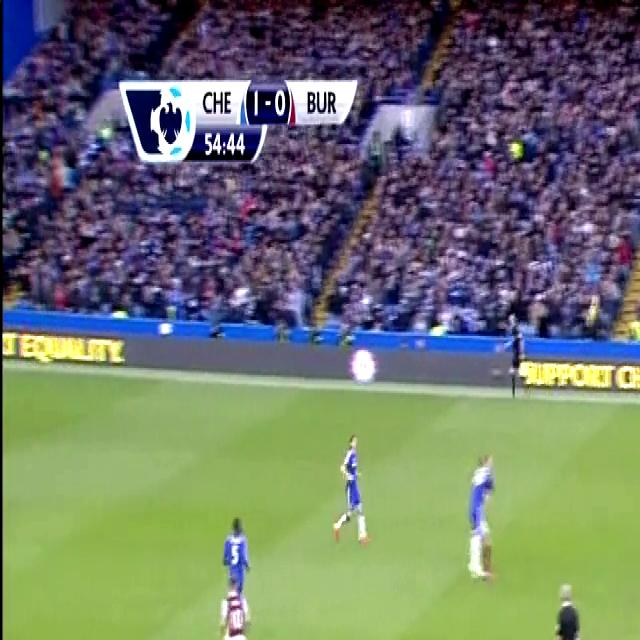referee: (494, 304, 532, 403), (546, 569, 588, 640)
soccer-player: (334, 417, 380, 547), (462, 444, 503, 589), (217, 514, 251, 636), (219, 581, 262, 640)
